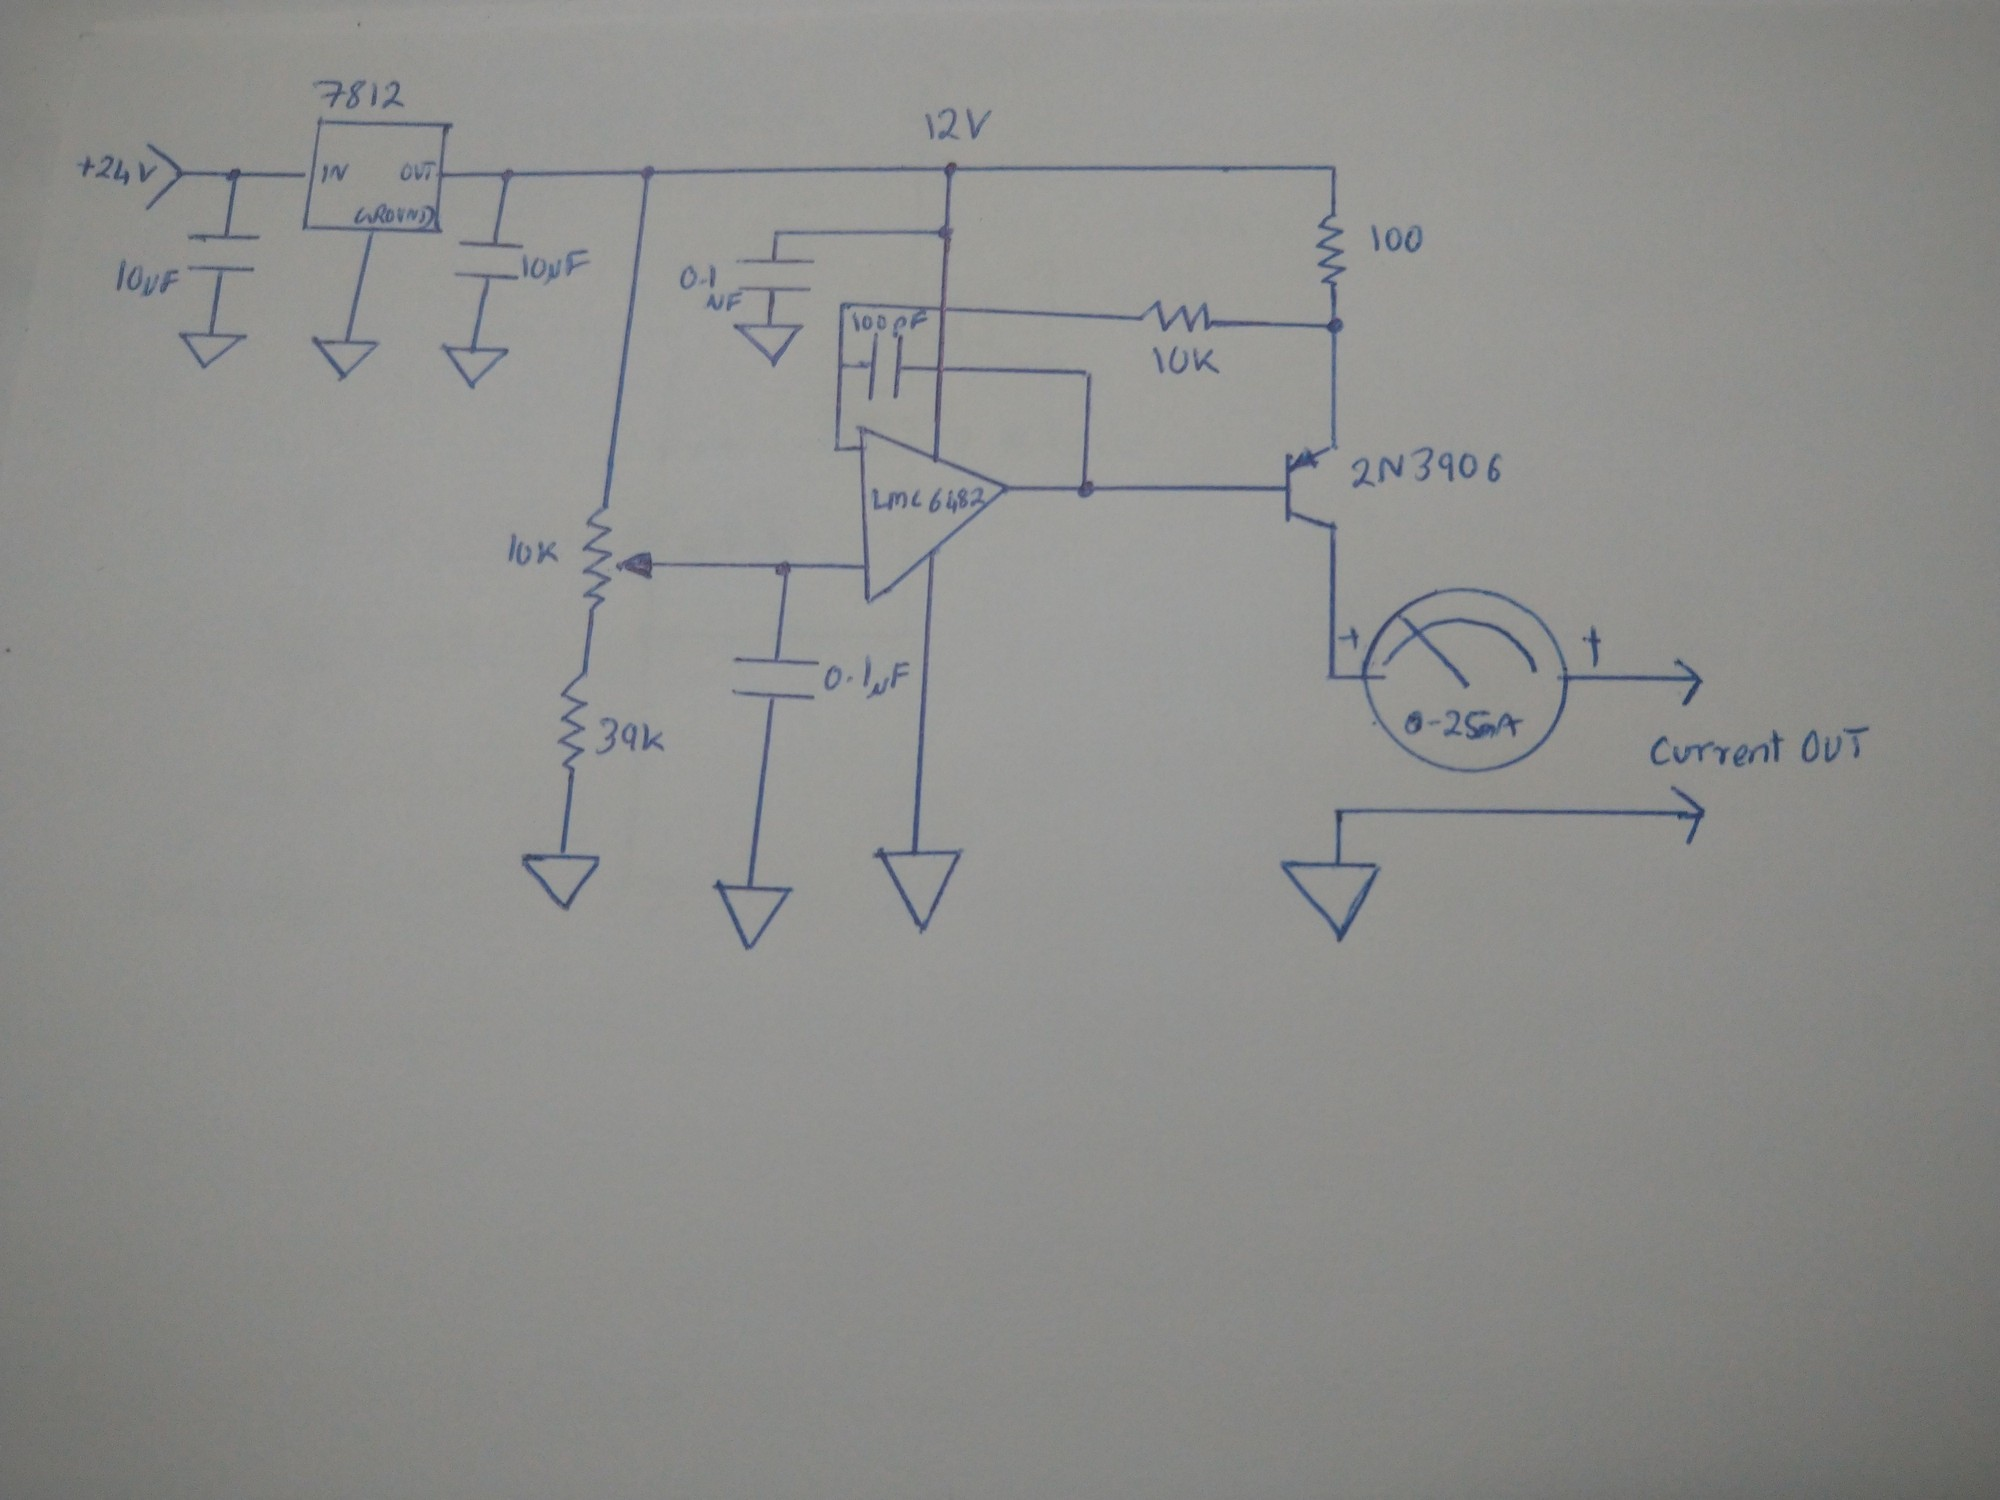capacitor.unpolarized: (728, 652, 820, 707), (183, 230, 261, 277), (732, 255, 817, 295), (865, 331, 909, 405), (454, 239, 523, 285)
crossover: (929, 358, 954, 386), (932, 298, 957, 318)
gnd: (1276, 856, 1384, 949), (869, 846, 969, 937), (710, 879, 797, 953), (517, 849, 603, 912), (436, 339, 510, 392), (729, 320, 806, 369), (307, 332, 380, 383), (176, 328, 249, 370)
junction: (932, 217, 959, 247), (1320, 312, 1350, 339), (1071, 476, 1099, 503), (939, 158, 969, 183), (636, 159, 661, 187), (772, 558, 798, 583), (220, 162, 246, 187), (494, 162, 520, 186), (1320, 156, 1343, 180), (1321, 663, 1345, 685), (1077, 362, 1099, 383), (830, 358, 850, 375), (835, 296, 852, 315), (1331, 804, 1350, 821), (828, 441, 847, 457), (769, 225, 787, 241)
operational_amplifier: (855, 422, 1013, 607)
probe.current: (1359, 586, 1570, 774)
resistor: (556, 670, 591, 777), (1313, 210, 1351, 291), (1137, 299, 1220, 336)
resistor.adjustable: (575, 503, 661, 611)
terminal: (140, 140, 183, 213), (1665, 783, 1710, 846), (1669, 655, 1704, 707)
text: (1646, 725, 1872, 774), (1348, 443, 1509, 495), (822, 652, 910, 704), (1403, 707, 1524, 744), (310, 74, 406, 113), (74, 150, 157, 192), (921, 101, 995, 148), (676, 262, 742, 314), (869, 485, 987, 514), (594, 715, 668, 759), (110, 257, 181, 303), (1146, 340, 1224, 380), (520, 247, 591, 288), (1365, 219, 1428, 258), (353, 200, 438, 228), (502, 529, 561, 570), (847, 310, 931, 336), (398, 159, 436, 184), (320, 161, 353, 184)
transistor: (1279, 440, 1343, 540)
voltage.dc_regulator: (299, 117, 454, 236)
